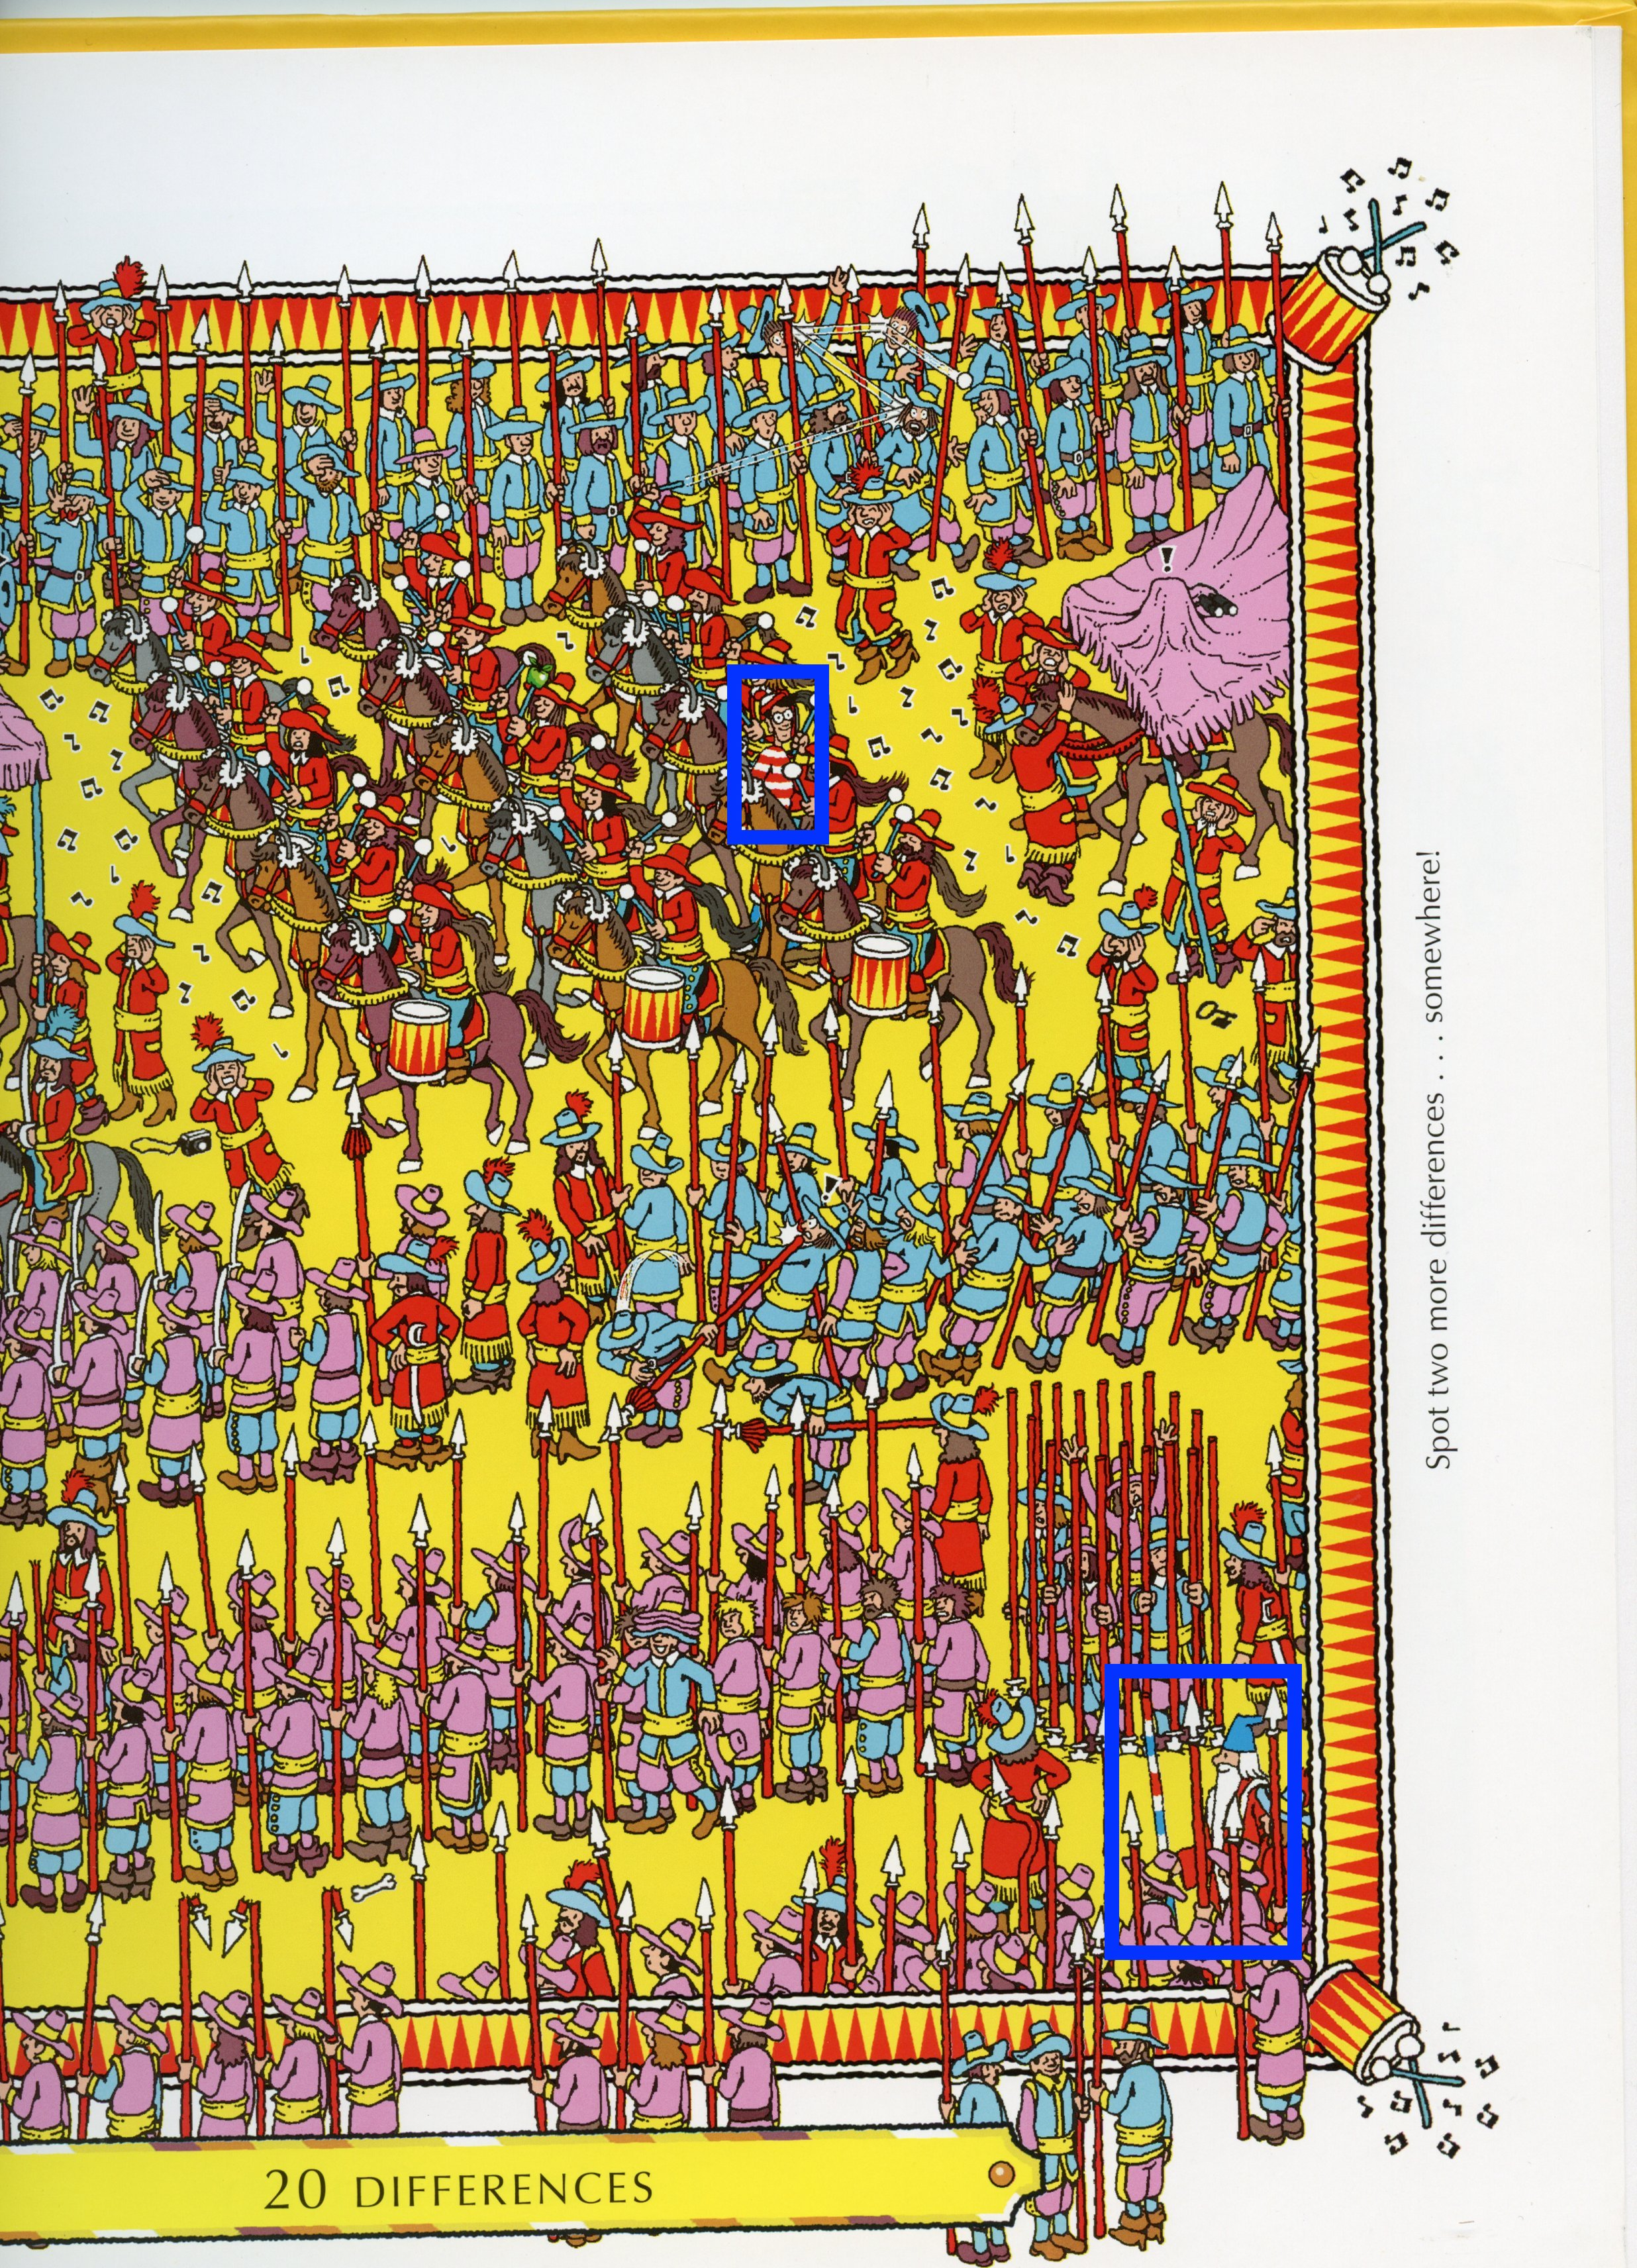waldo: (694, 659, 901, 852)
